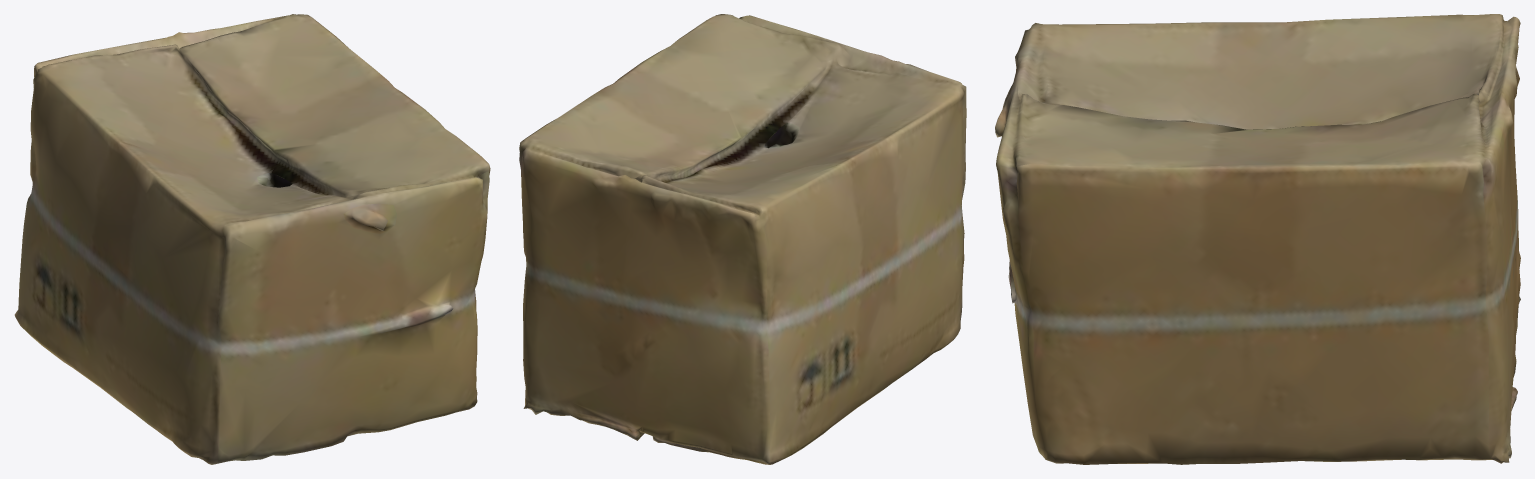
Rendered from cardboard_box_01.glb.
3 views of the same model, side by side, from view 1: azimuth 30°, elevation 25°; view 2: azimuth 150°, elevation 25°; view 3: azimuth 270°, elevation 25° (orthographic). The views are drawn at different scales.
Visible parts, largest first — view 1: cardboard_box_01; view 2: cardboard_box_01; view 3: cardboard_box_01.
Boxes of the visible parts, x1,y1,x2,y2 form: cardboard_box_01: (14, 14, 490, 464); cardboard_box_01: (519, 14, 966, 464); cardboard_box_01: (995, 14, 1520, 464).
Size of the model in its own units: 0.3868 by 0.3418 by 0.5159.
1 material, 1 textured.
